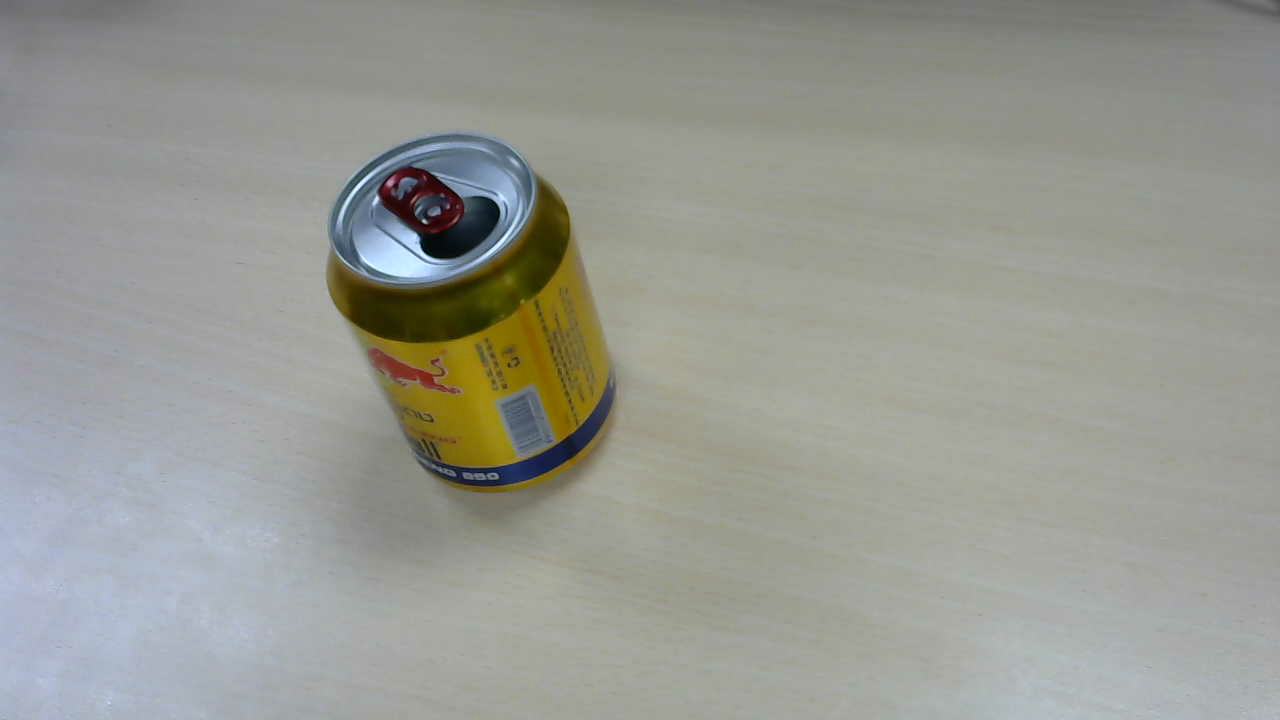Red_Bull: (331, 141, 632, 500)
